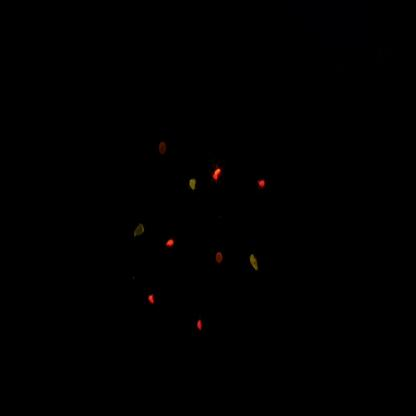PET: (193, 311, 211, 348), (254, 171, 273, 197)
PP: (243, 241, 271, 286), (127, 212, 152, 249), (186, 173, 202, 200)
PS: (149, 128, 171, 174), (210, 248, 227, 279)
PVC: (140, 286, 164, 323), (209, 157, 229, 194), (164, 229, 183, 264)
